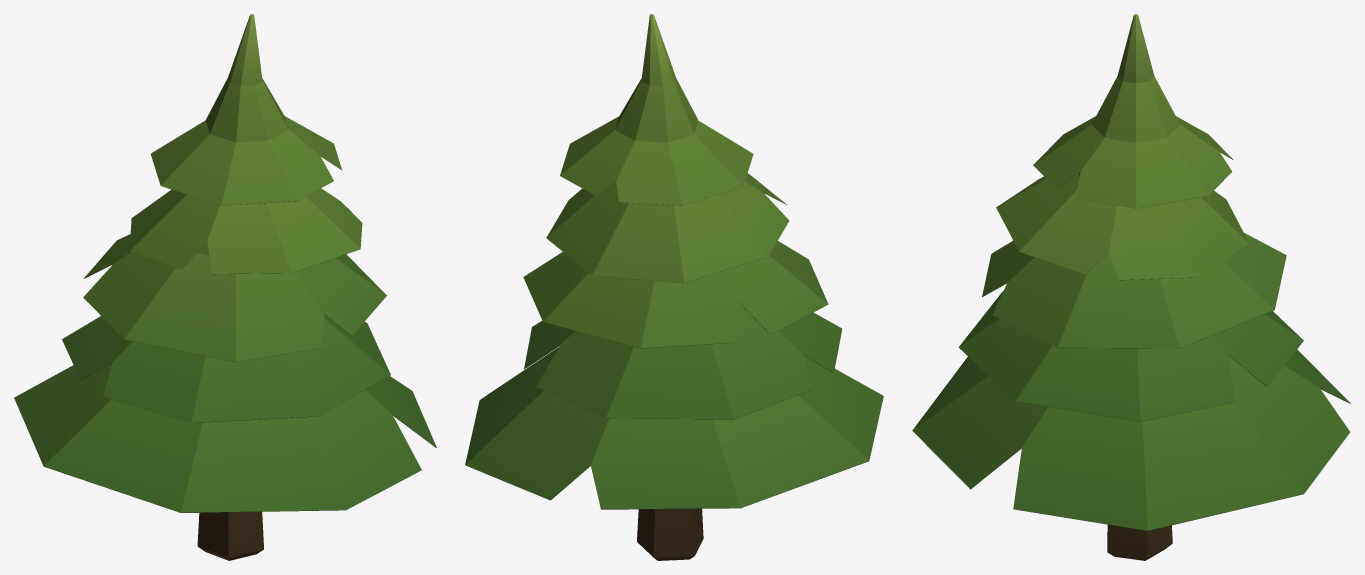
The model's file is Tree_01.fbx.
3 renders of one model, left to right at view 1: azimuth 30°, elevation 25°; view 2: azimuth 150°, elevation 25°; view 3: azimuth 270°, elevation 25°, orthographic. The views are drawn at different scales.
Parts seen in each view (by area): view 1: Tree_01; view 2: Tree_01; view 3: Tree_01.
Part boxes in pixels (x1,y1,x2,y2): Tree_01: [14, 14, 436, 560]; Tree_01: [465, 14, 883, 560]; Tree_01: [912, 14, 1350, 560].
Bounding box in the file's own units: 3.34 × 4.47 × 3.26.
